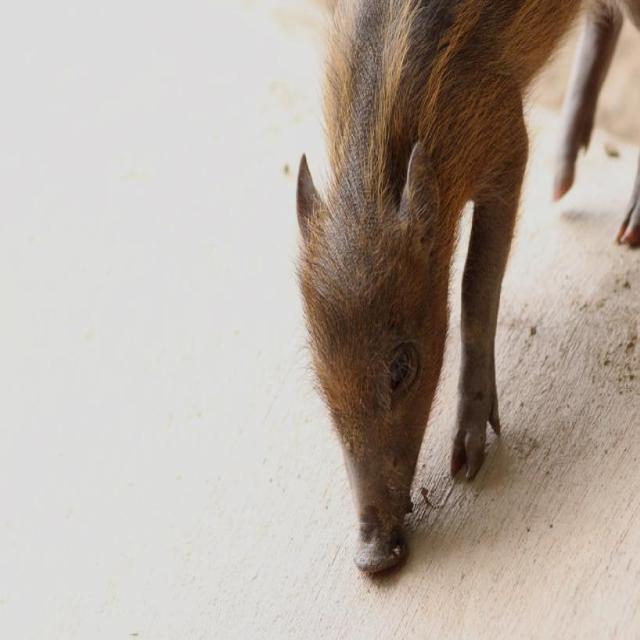pig: (296, 0, 581, 573), (554, 0, 640, 198)
